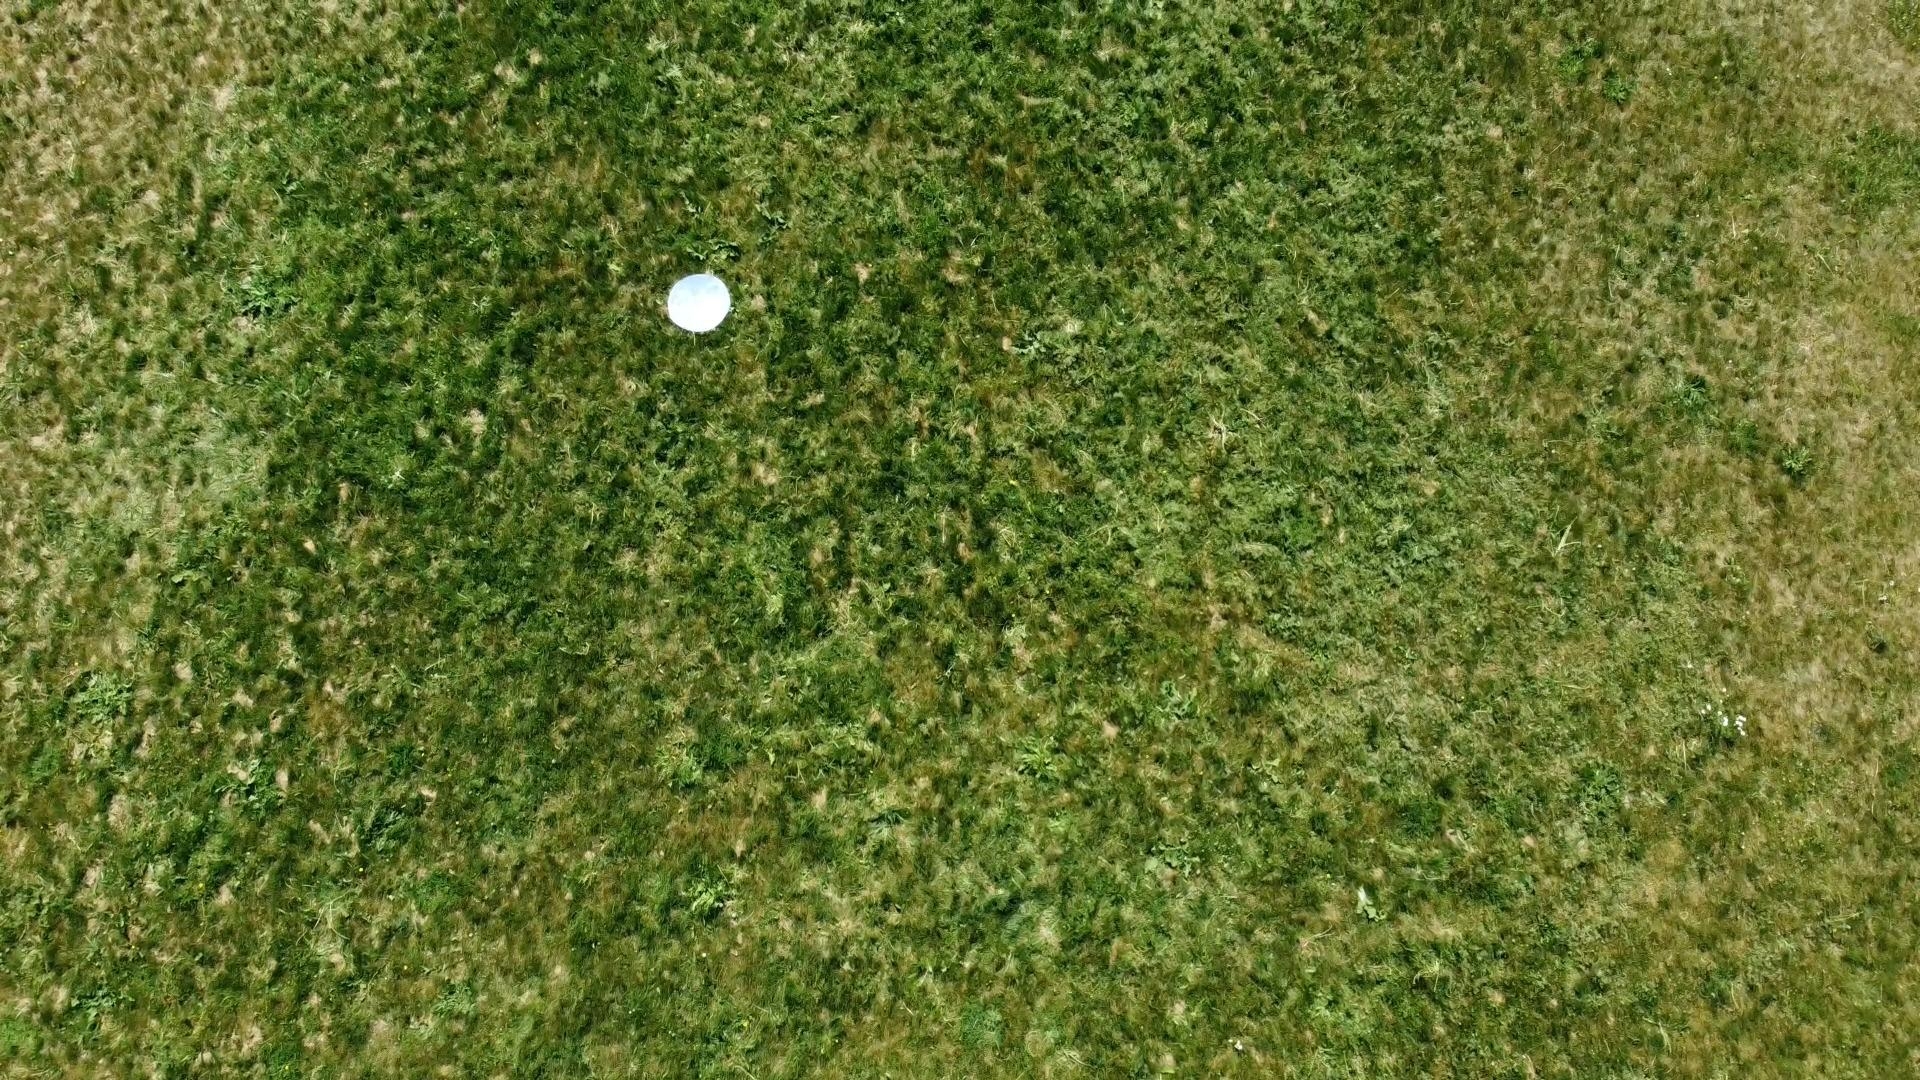Blue: (662, 269, 736, 335)
